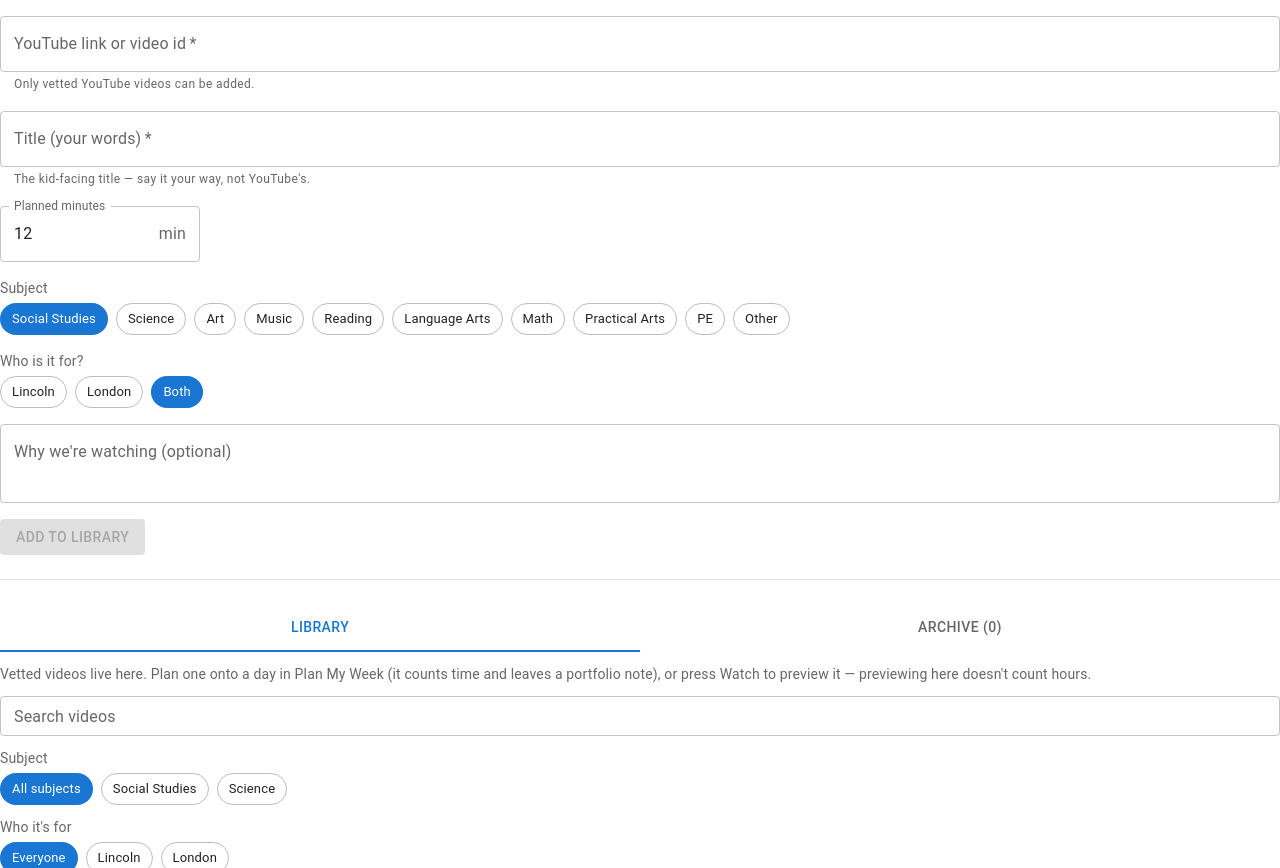
Test: WatchLibraryTab search + filter + grouping (FEAT-139) › searches by title
Type "water" into the field labelled "Search videos".
click(640, 716); type("water")  # box 0,696 -> 1279,736
(page scrolled)
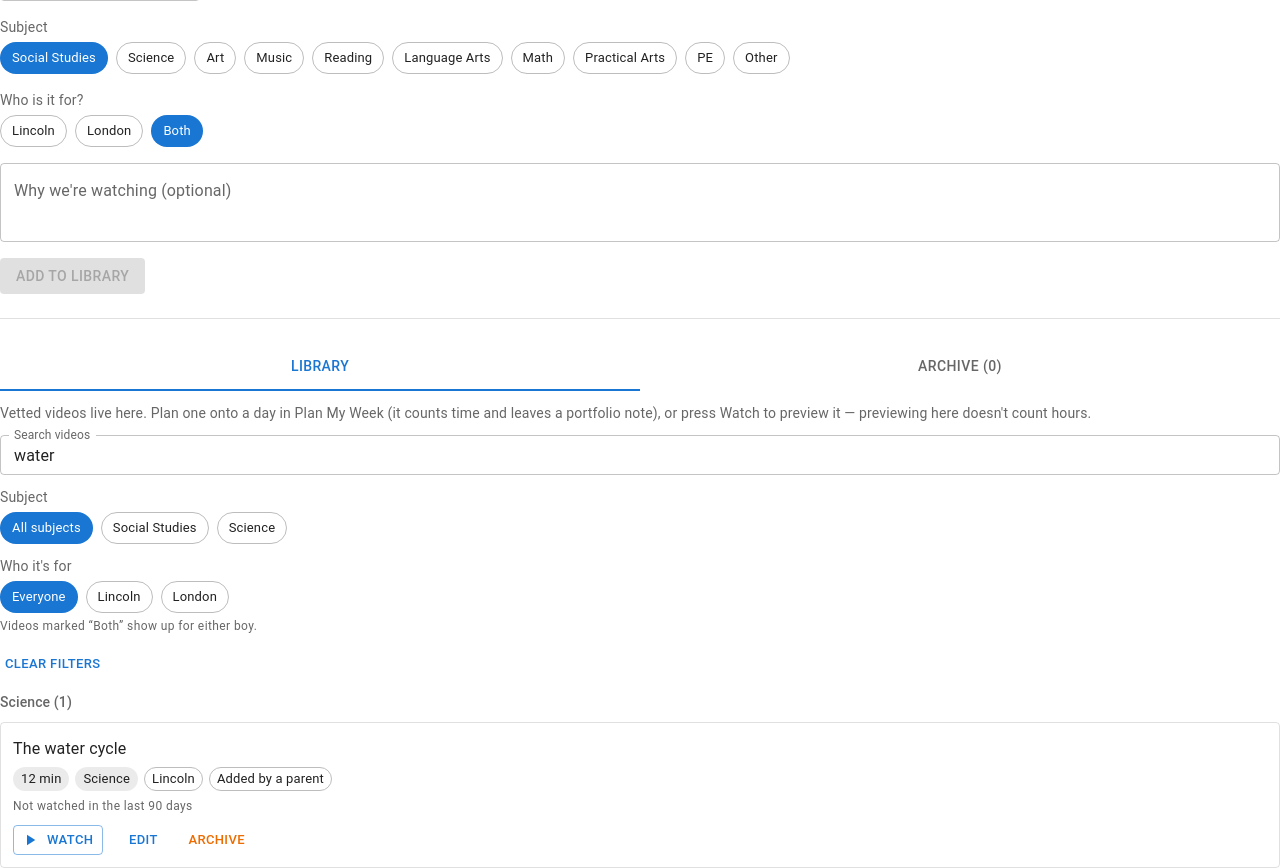
Expected: the heading "The water cycle" is shown, 13,739 -> 126,758
Expected: the heading "Science (1)" is shown, 0,694 -> 72,710
